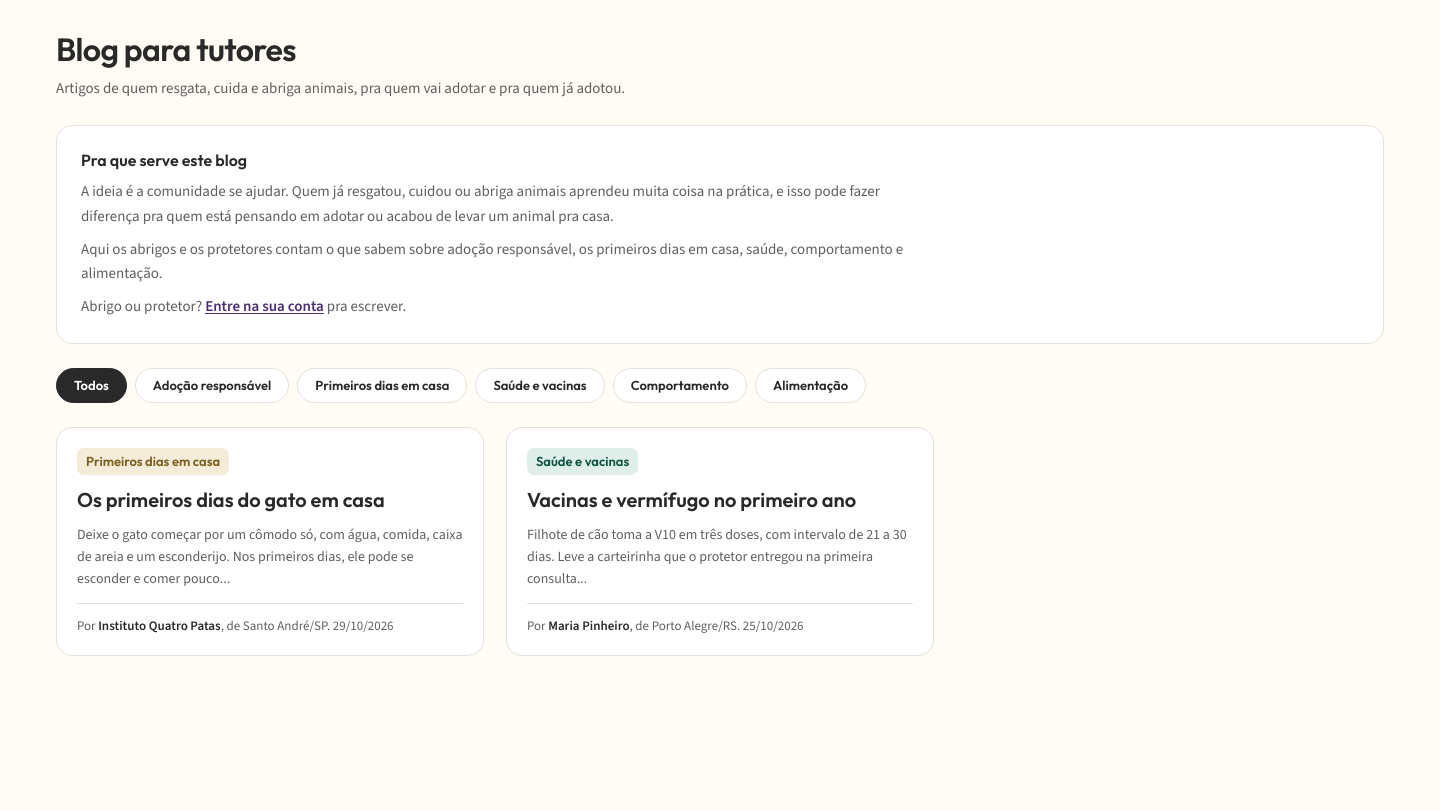
Test: o assunto escolhido vai pra busca e, sem artigo dele, avisa
Click the button "Alimentação" at [810, 385], box x1=755 y1=368 x2=866 y2=403
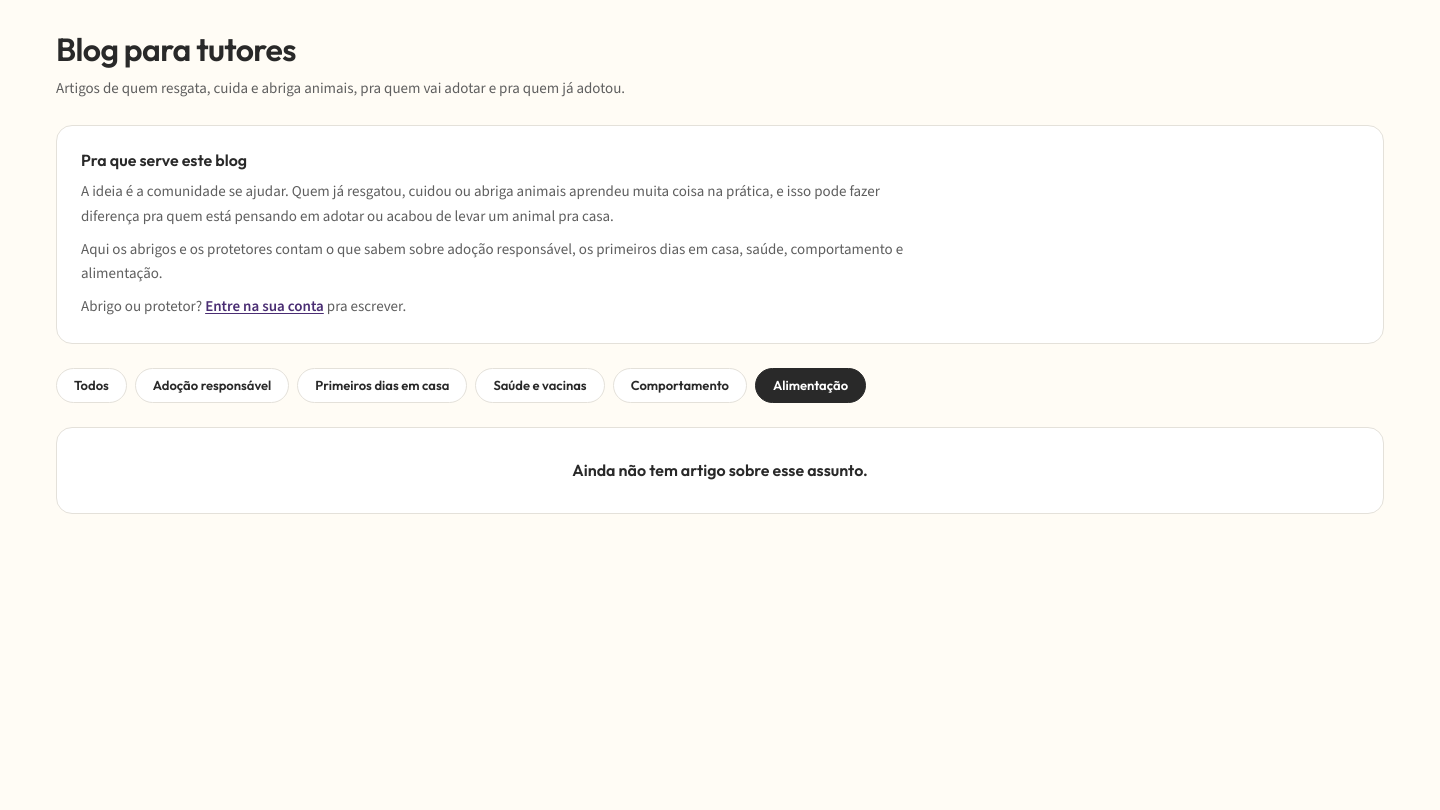
expect the text "Ainda não tem artigo sobre esse assunto." is shown: met, box x1=572 y1=460 x2=868 y2=480
